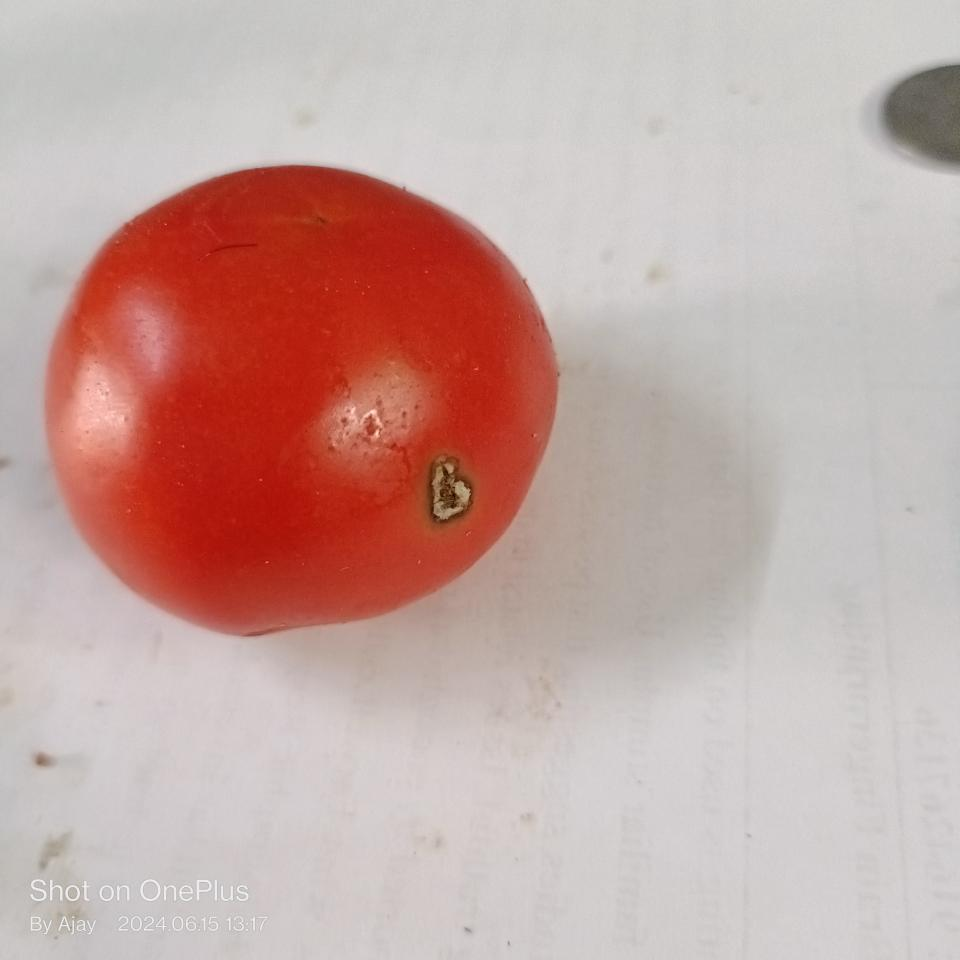Bacterial_Spot: (425, 454, 474, 528)
